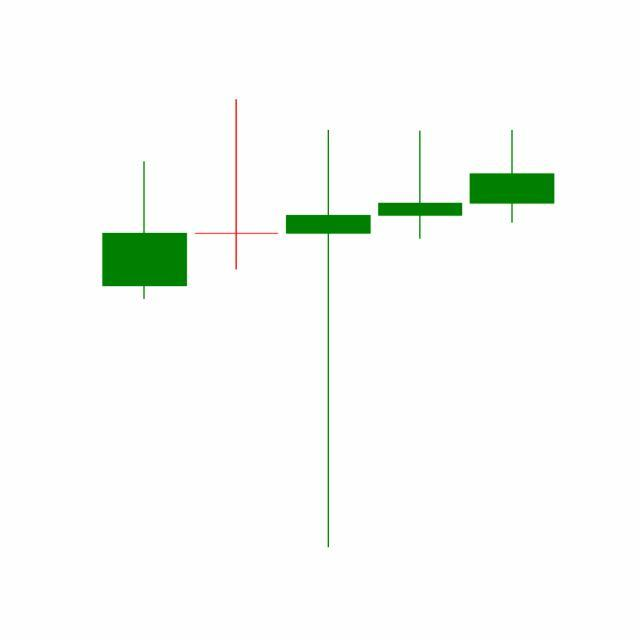Gravestone Doji: (374, 130, 468, 240)
